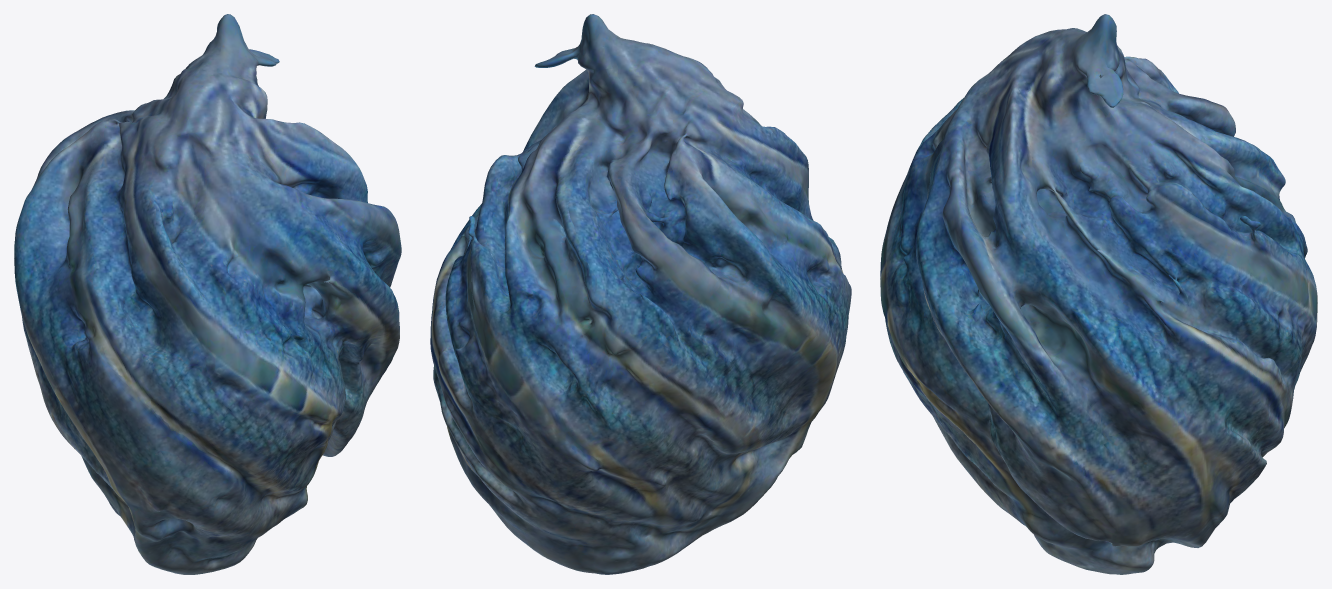
File: fd3942910472_an__ice_fruit_boast.fbx
3 views of the same model, side by side, from view 1: azimuth 30°, elevation 25°; view 2: azimuth 150°, elevation 25°; view 3: azimuth 270°, elevation 25° (orthographic). The views are drawn at different scales.
Visible parts, largest first — view 1: high_poly; view 2: high_poly; view 3: high_poly.
Part boxes in pixels (<box>): high_poly: <box>14,14,401,574</box>; high_poly: <box>430,14,851,574</box>; high_poly: <box>880,14,1317,574</box>.
Bounding box in the file's own units: 67.44 × 100 × 70.85.
